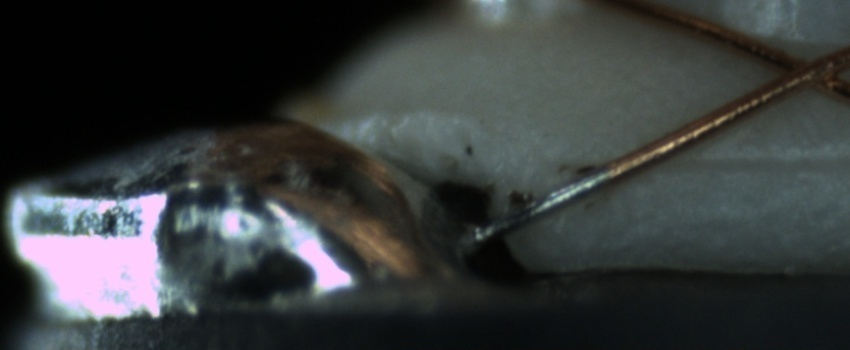CL: (756, 38, 846, 102)
DL: (666, 127, 850, 191)
TS: (465, 168, 607, 242)
